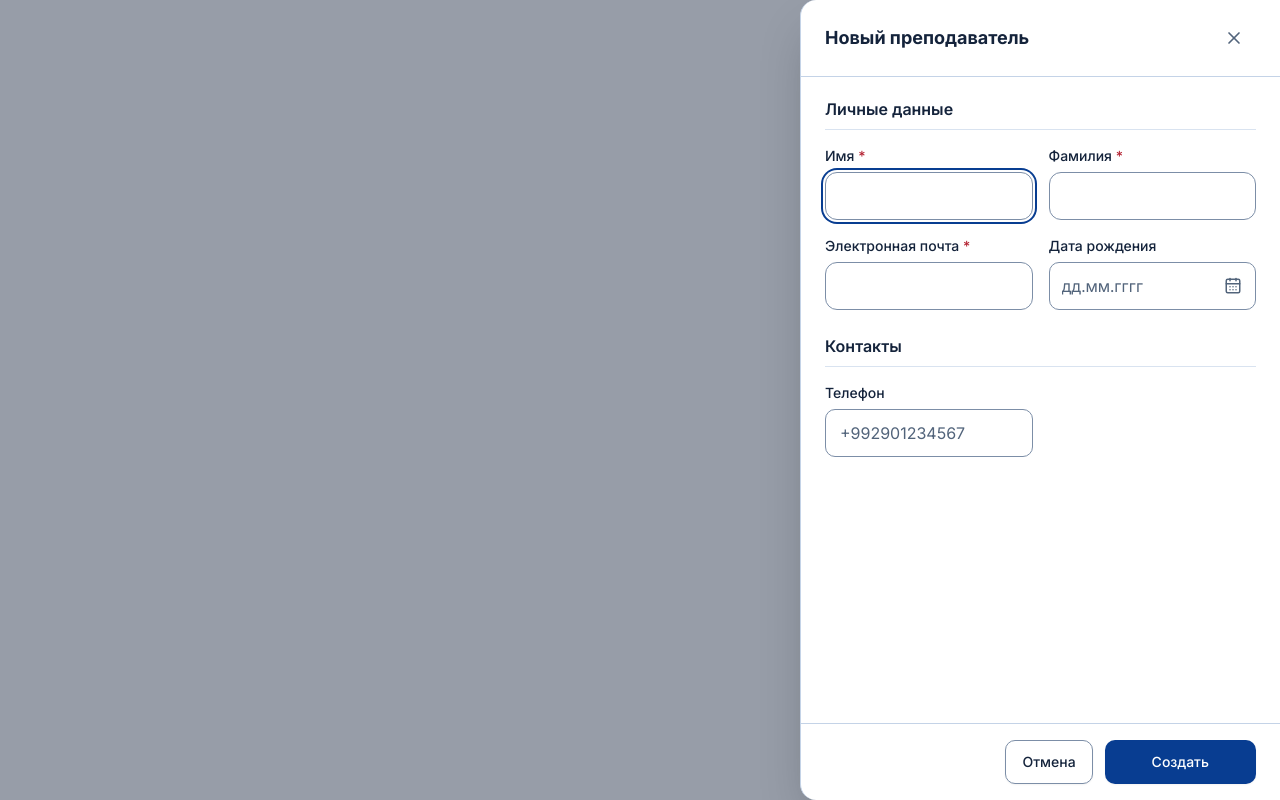
Scenario: MentorFormPanel › focuses first invalid field and renders translated error on 422 server error in non-English locale (ru)
Type "valid@example.com" into the field labelled "Электронная почта *" at coordinates (929, 286), box x1=825 y1=262 x2=1032 y2=310
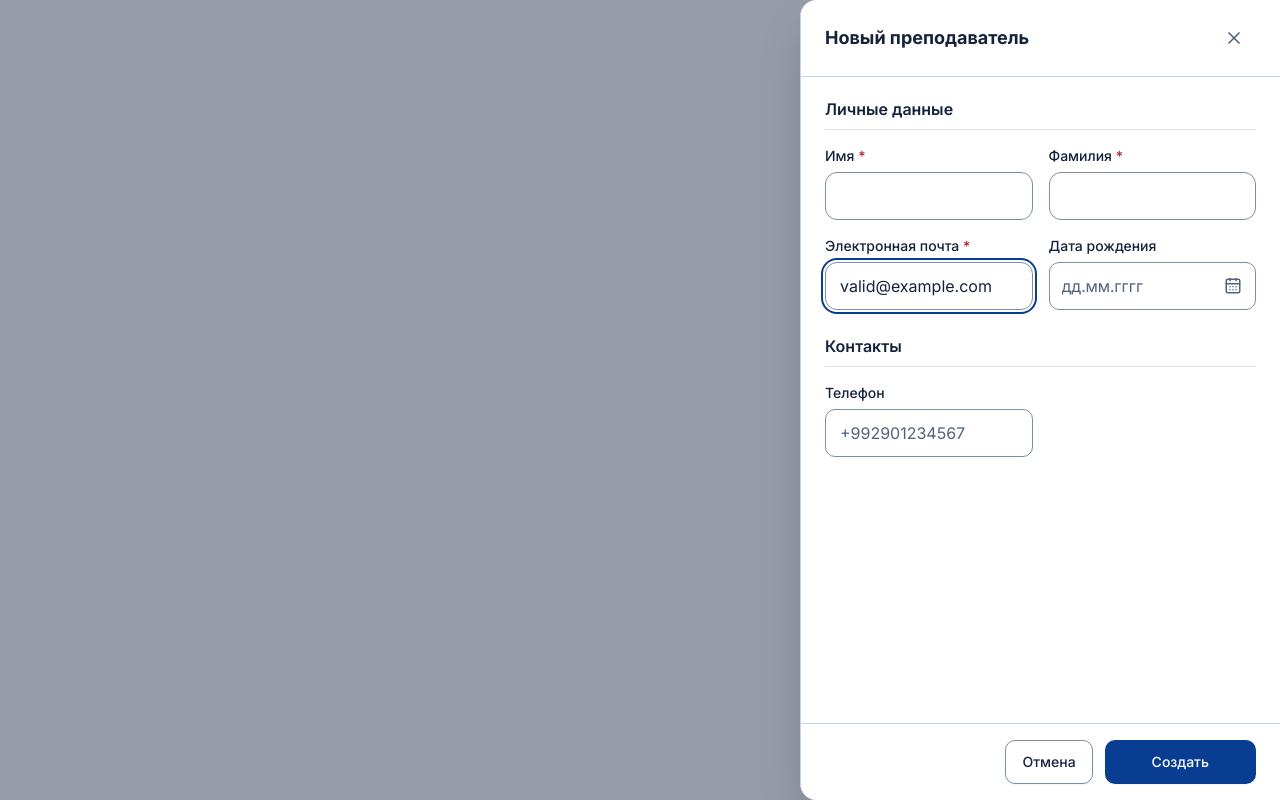
Click the button "Создать" at coordinates (1180, 762), box x1=1105 y1=740 x2=1256 y2=784
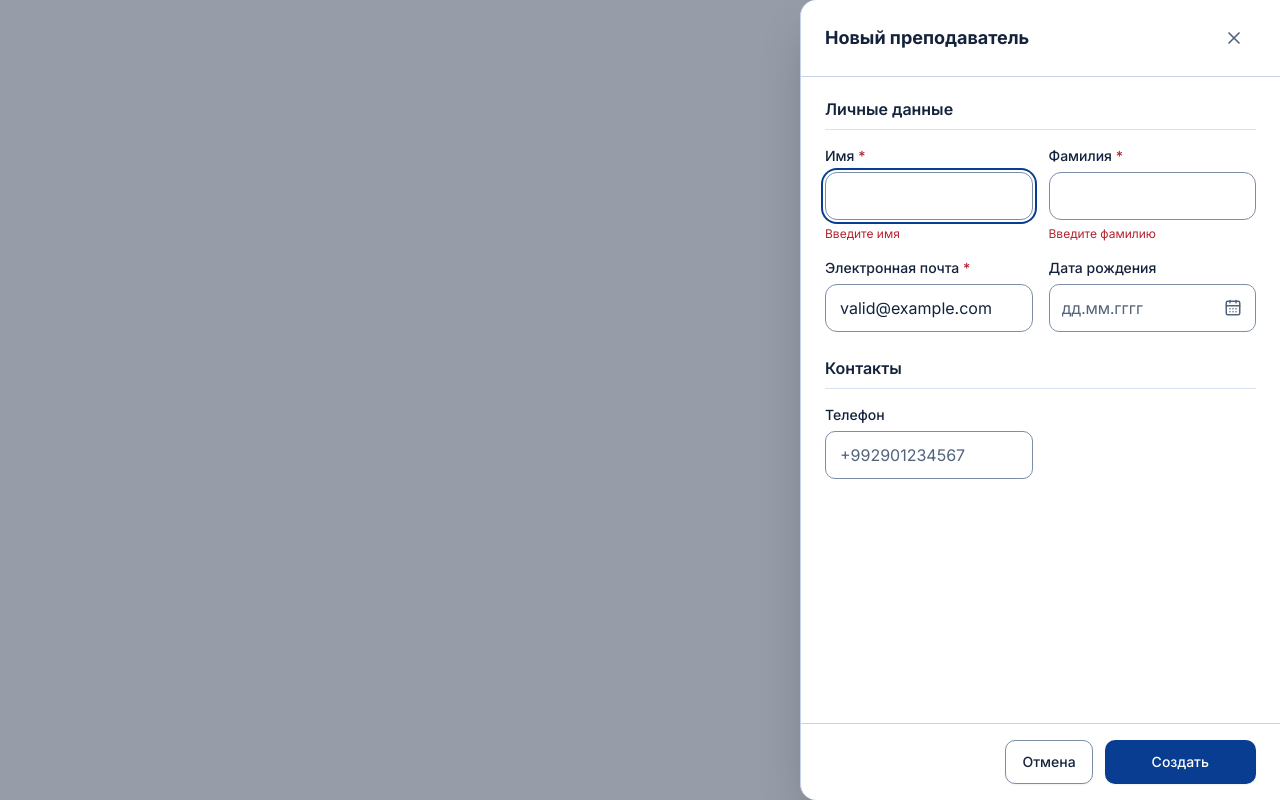
expect the text "Введите имя" is shown: met, box x1=825 y1=226 x2=900 y2=241
